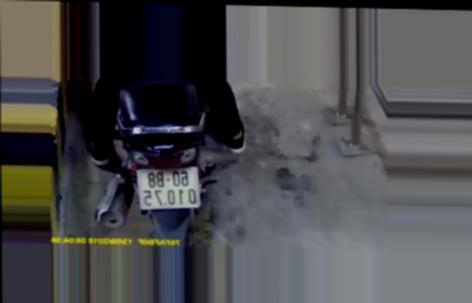License_Plate: (134, 162, 206, 216)
